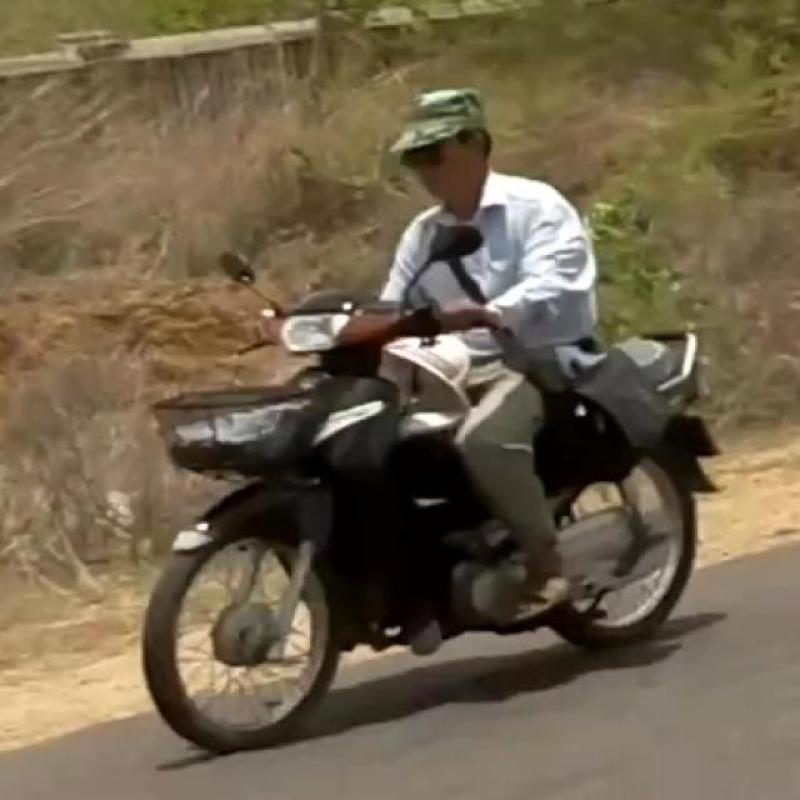nohelmet: (360, 52, 524, 238)
